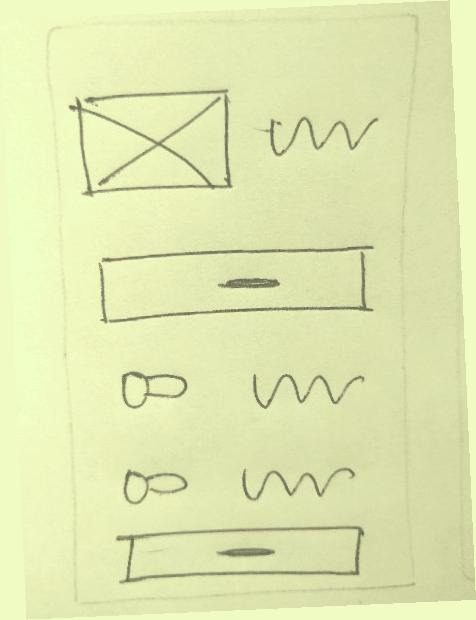button: (92, 235, 381, 335), (109, 517, 370, 590)
image: (63, 80, 247, 204)
switch: (105, 360, 209, 417), (110, 459, 201, 513)
text: (251, 103, 383, 164), (234, 451, 358, 514), (241, 361, 372, 420)
